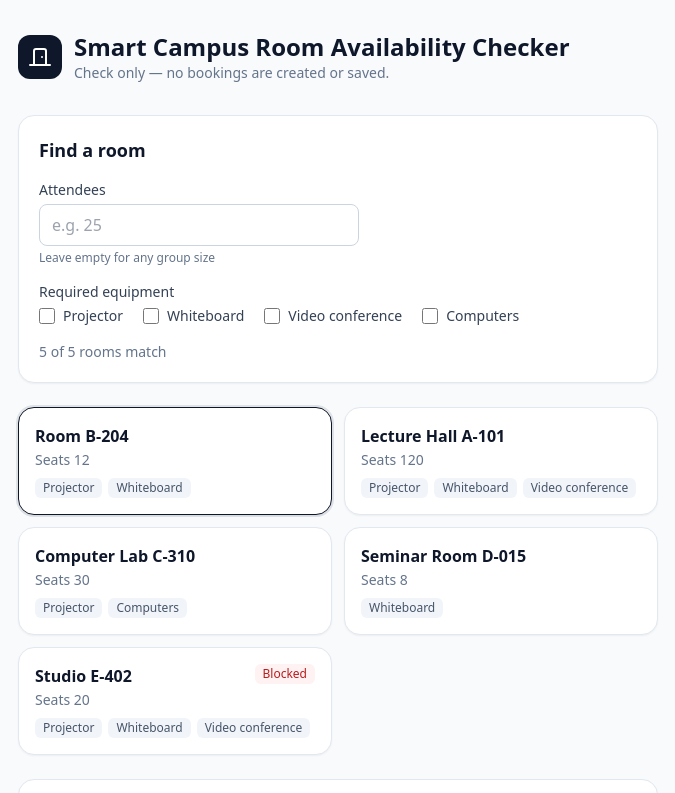
Test: F3 blocked room › is tagged, listed when it matches, and never reported as available
Expected: the text "Blocked" is shown, [254,664,315,684]
Click the button "Studio E-402" at (83, 676), box [18,647,332,755]
(page scrolled)
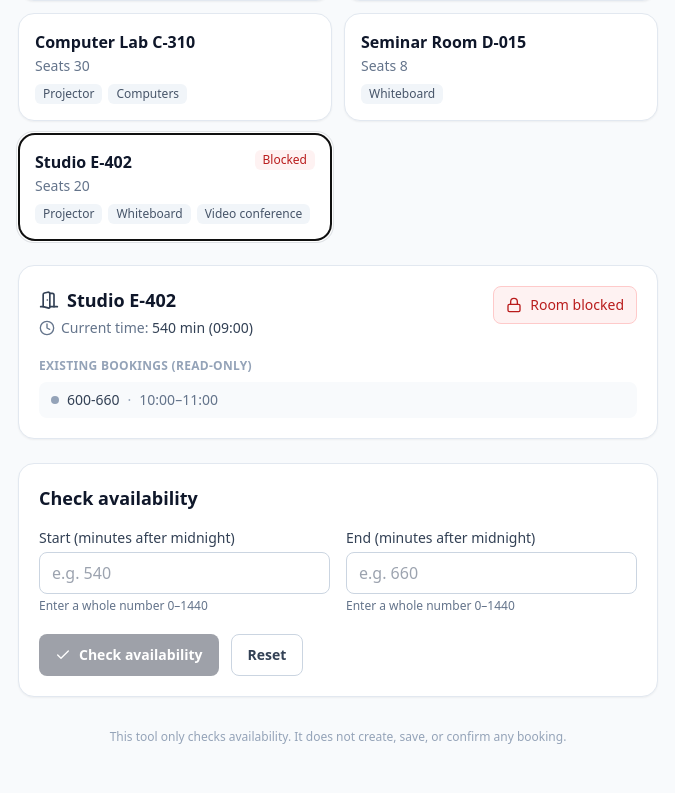
Result: the text "Room blocked" is shown at [493,286,637,324]
Type "700" into the number field labelled "Start (minutes after midnight)" at (184, 573), box [39,552,330,594]
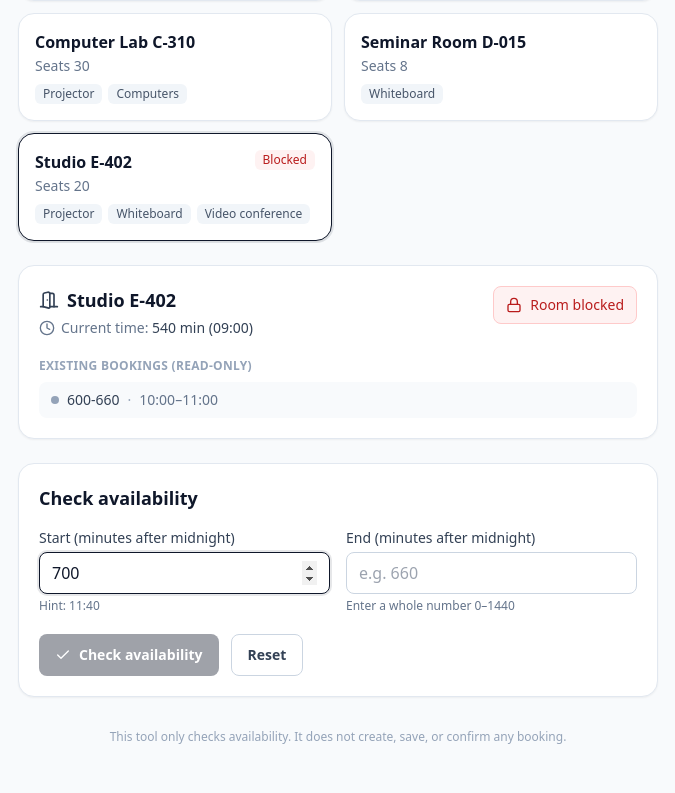
Type "760" into the number field labelled "End (minutes after midnight)" at (492, 573), box [346,552,637,594]
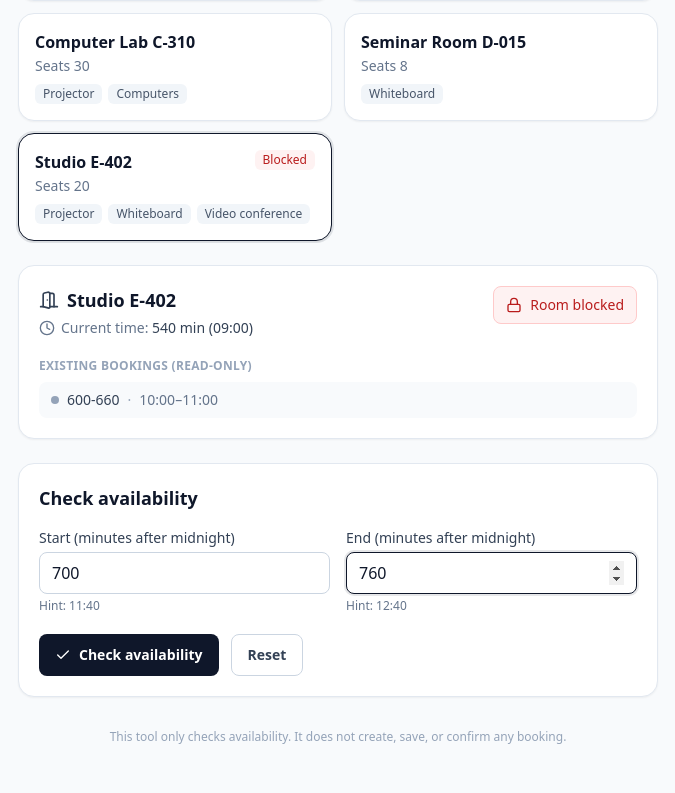
Click the button "Check availability" at (129, 655), box [39,634,218,676]
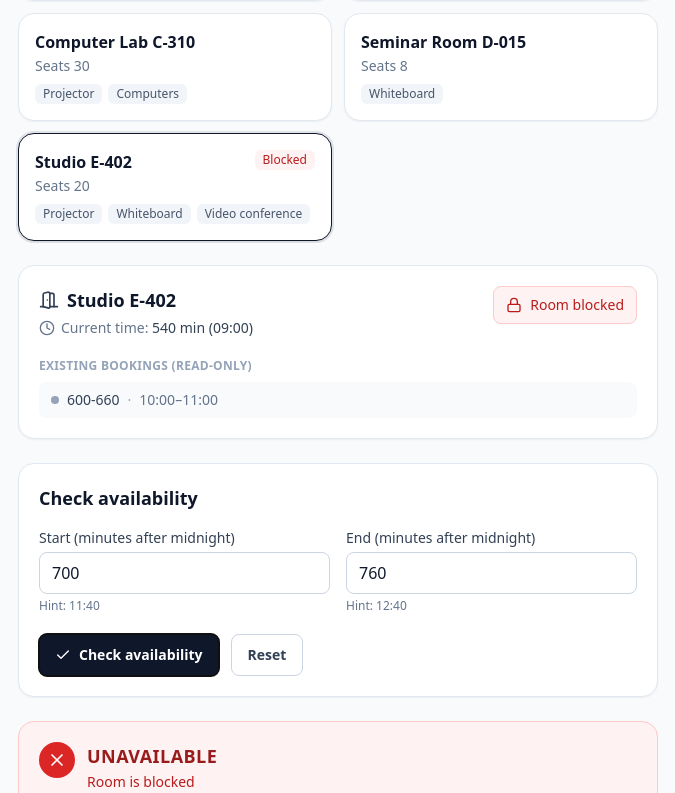
Result: the text "UNAVAILABLE" is shown at [87,742,228,770]
Result: the text "Room is blocked" is shown at [87,772,195,791]
